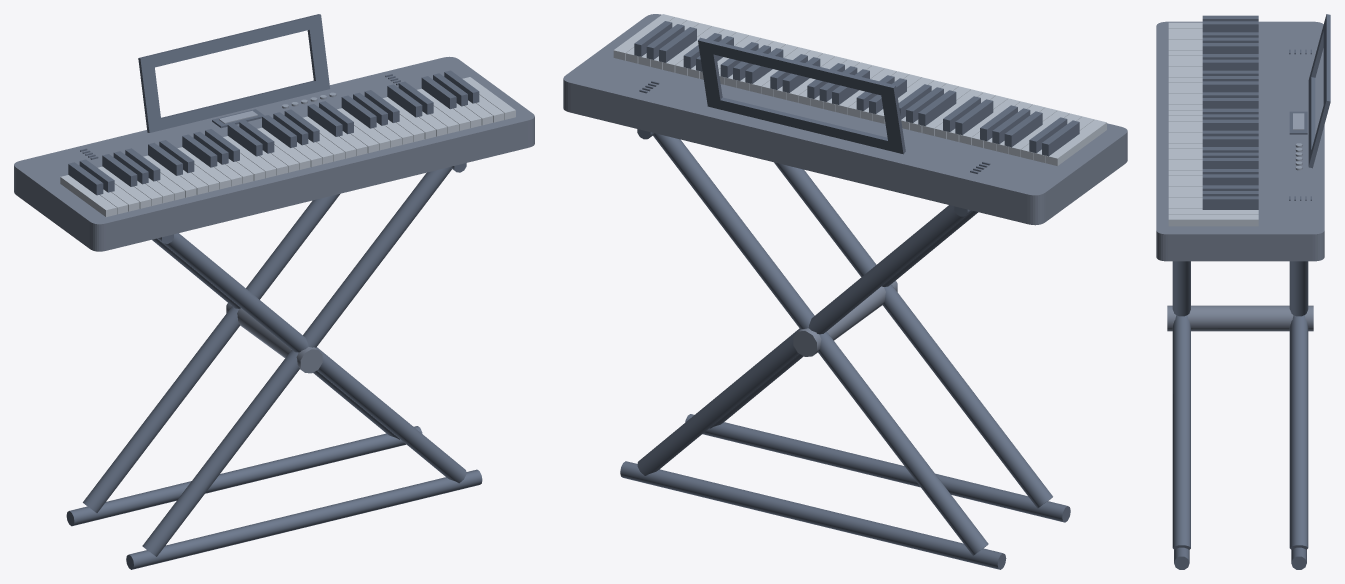
The model's file is keyboard-stand-lite.glb.
3 renders of one model, left to right at view 1: azimuth 30°, elevation 25°; view 2: azimuth 150°, elevation 25°; view 3: azimuth 270°, elevation 25°, orthographic. The views are drawn at different scales.
Visible parts, largest first — view 1: keyboard-stand-dark, keyboard-stand-frame, keyboard-stand-light; view 2: keyboard-stand-dark, keyboard-stand-frame, keyboard-stand-light; view 3: keyboard-stand-dark, keyboard-stand-frame, keyboard-stand-light.
Boxes of the visible parts, x1=… form: keyboard-stand-dark: x1=66, y1=14, x2=482, y2=569; keyboard-stand-frame: x1=14, y1=56, x2=534, y2=373; keyboard-stand-light: x1=60, y1=77, x2=515, y2=217; keyboard-stand-dark: x1=620, y1=21, x2=1079, y2=569; keyboard-stand-frame: x1=563, y1=14, x2=1127, y2=356; keyboard-stand-light: x1=613, y1=14, x2=1106, y2=165; keyboard-stand-dark: x1=1172, y1=14, x2=1330, y2=569; keyboard-stand-frame: x1=1156, y1=21, x2=1324, y2=331; keyboard-stand-light: x1=1168, y1=22, x2=1258, y2=226.
Bounding box in the file's own units: 1.03 × 0.9689 × 0.3573.
